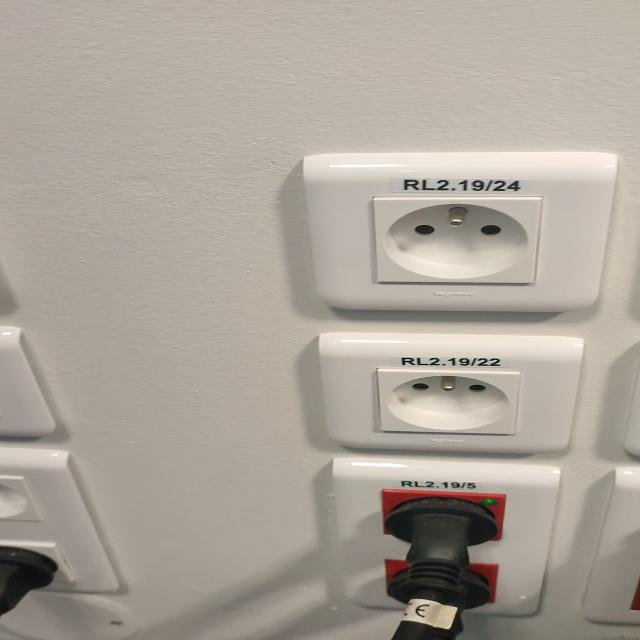house plug: (373, 196, 540, 284), (378, 369, 520, 436)
